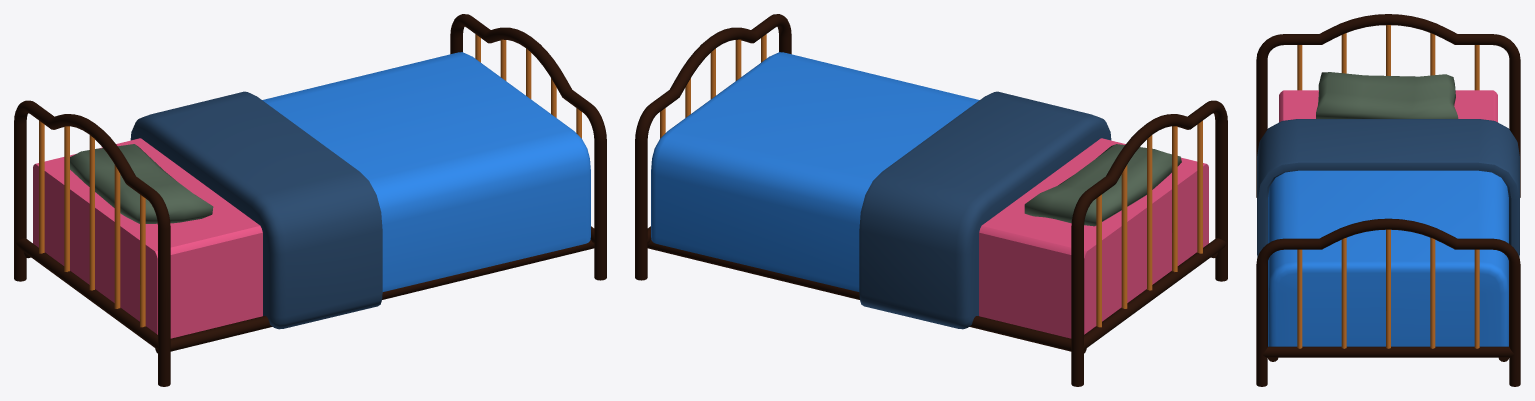
File: SM_Lit_4.fbx
3 renders of one model, left to right at view 1: azimuth 30°, elevation 25°; view 2: azimuth 150°, elevation 25°; view 3: azimuth 270°, elevation 25°, orthographic. The views are drawn at different scales.
Visible parts, largest first — view 1: SM_Lit_4; view 2: SM_Lit_4; view 3: SM_Lit_4.
Boxes of the visible parts, x1,y1,x2,y2 form: SM_Lit_4: (14, 14, 606, 386); SM_Lit_4: (635, 14, 1227, 386); SM_Lit_4: (1256, 14, 1520, 386).
Size of the model in its own units: 2.05 by 0.9125 by 1.19.
